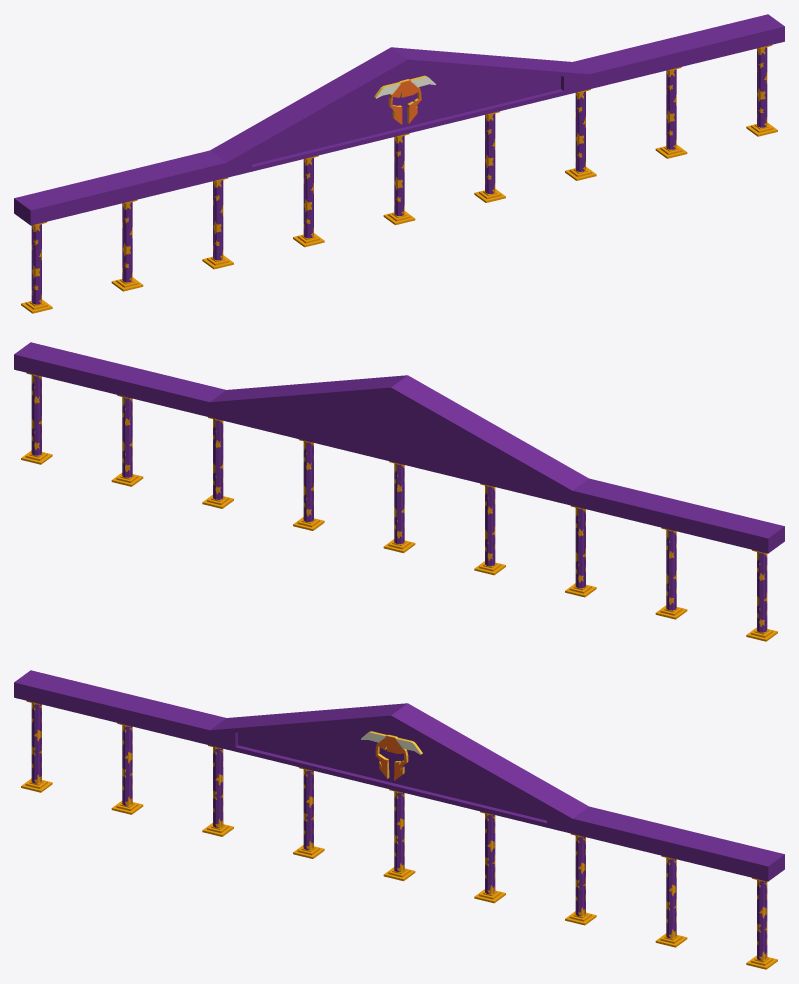
Rendered from panteonpillar.fbx.
The picture shows the model from 3 angles, top to bottom: view 1: azimuth 30°, elevation 25°; view 2: azimuth 150°, elevation 25°; view 3: azimuth 330°, elevation 25°; orthographic projection.
Visible parts, largest first — view 1: Cube.005, Cube.010, Cube.003, Cube.006, Cube.007, Cube.009, Cube.001, Cube.002, Cube.008, Cube.004, Cube; view 2: Cube.005, Cube.003, Cube.007, Cube.006, Cube.009, Cube.001, Cube.008, Cube, Cube.002, Cube.004; view 3: Cube.005, Cube.010, Cube.003, Cube.006, Cube.007, Cube.008, Cube, Cube.009, Cube.001, Cube.002, Cube.004.
Part boxes in pixels (x1=…): Cube.005: x1=14, y1=14, x2=784, y2=225; Cube.010: x1=374, y1=75, x2=435, y2=124; Cube.003: x1=383, y1=133, x2=415, y2=225; Cube.006: x1=474, y1=111, x2=505, y2=202; Cube.007: x1=293, y1=155, x2=324, y2=247; Cube.009: x1=111, y1=199, x2=143, y2=291; Cube.001: x1=746, y1=45, x2=777, y2=136; Cube.002: x1=202, y1=177, x2=233, y2=269; Cube.008: x1=655, y1=67, x2=687, y2=158; Cube.004: x1=565, y1=89, x2=596, y2=180; Cube: x1=21, y1=222, x2=52, y2=313; Cube.005: x1=14, y1=342, x2=784, y2=553; Cube.003: x1=383, y1=461, x2=415, y2=553; Cube.007: x1=474, y1=483, x2=505, y2=575; Cube.006: x1=293, y1=439, x2=324, y2=530; Cube.009: x1=655, y1=527, x2=687, y2=619; Cube.001: x1=21, y1=373, x2=52, y2=464; Cube.008: x1=111, y1=395, x2=143, y2=486; Cube: x1=746, y1=550, x2=777, y2=641; Cube.002: x1=565, y1=505, x2=596, y2=597; Cube.004: x1=202, y1=417, x2=233, y2=508; Cube.005: x1=14, y1=670, x2=784, y2=881; Cube.010: x1=361, y1=731, x2=422, y2=780; Cube.003: x1=383, y1=789, x2=415, y2=881; Cube.006: x1=474, y1=811, x2=505, y2=903; Cube.007: x1=293, y1=767, x2=324, y2=858; Cube.008: x1=655, y1=855, x2=687, y2=947; Cube: x1=21, y1=701, x2=52, y2=792; Cube.009: x1=111, y1=723, x2=143, y2=814; Cube.001: x1=746, y1=878, x2=777, y2=969; Cube.002: x1=202, y1=745, x2=233, y2=836; Cube.004: x1=565, y1=833, x2=596, y2=925.
Size of the model in its own units: 52 by 2 by 10.89.
1 material, 1 textured.
